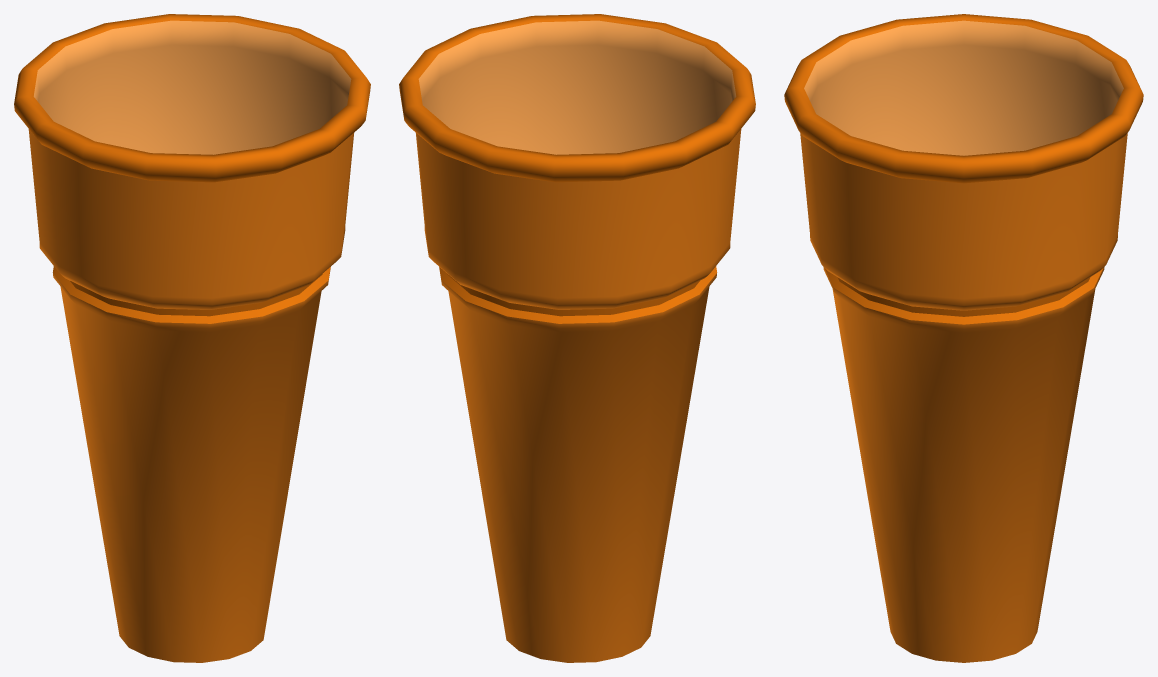
The model's file is Cone B Brown.fbx.
3 renders of one model, left to right at view 1: azimuth 30°, elevation 25°; view 2: azimuth 150°, elevation 25°; view 3: azimuth 270°, elevation 25°, orthographic.
Parts seen in each view (by area): view 1: Cone B Brown; view 2: Cone B Brown; view 3: Cone B Brown.
Part boxes in pixels (left/top/right/bottom): Cone B Brown: left=14, top=14, right=370, bottom=662; Cone B Brown: left=399, top=14, right=755, bottom=662; Cone B Brown: left=784, top=14, right=1143, bottom=662.
Bounding box in the file's own units: 0.4323 × 0.722 × 0.4323.
